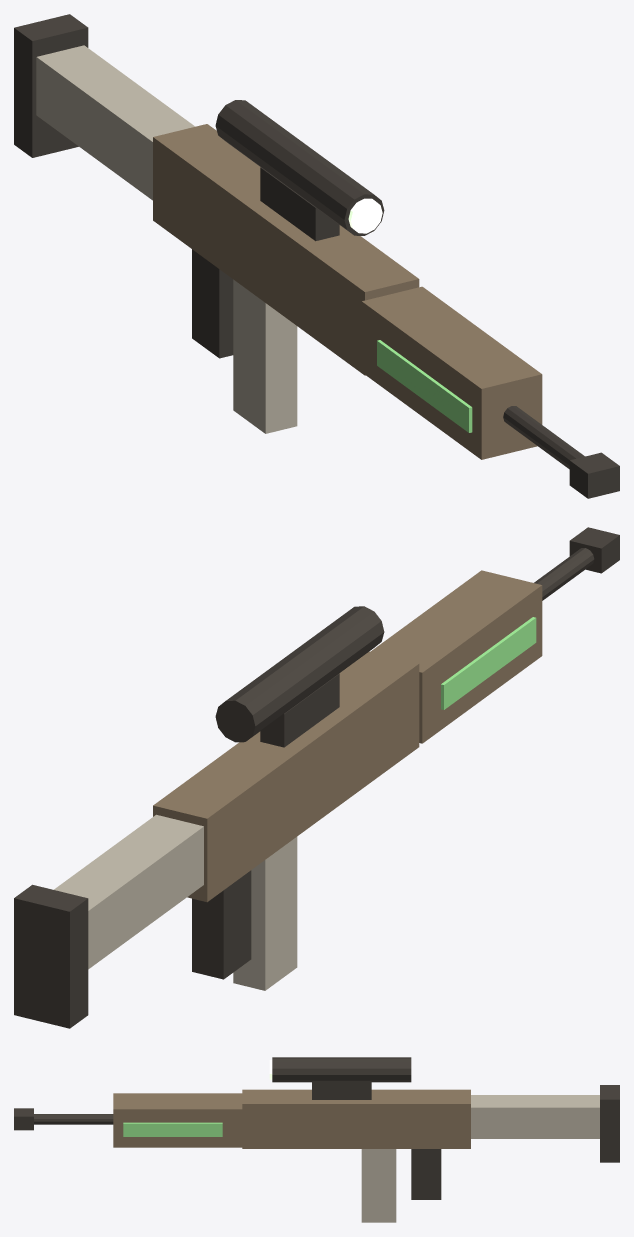
Rendered from weapon_P_BattleRifle.glb.
3 views of the same model, one above another, from view 1: azimuth 30°, elevation 25°; view 2: azimuth 150°, elevation 25°; view 3: azimuth 270°, elevation 25° (orthographic). The views are drawn at different scales.
Visible parts, largest first — view 1: Body, Mag; view 2: Body, Mag; view 3: Body, Mag.
Boxes of the visible parts, left/top/right/bottom form: Body: left=14, top=14, right=619, bottom=498; Mag: left=233, top=279, right=297, bottom=433; Body: left=14, top=527, right=619, bottom=1028; Mag: left=233, top=837, right=297, bottom=990; Body: left=14, top=1057, right=619, bottom=1199; Mag: left=361, top=1149, right=396, bottom=1222.
Bounding box in the file's own units: 0.084 × 0.355 × 1.22.
